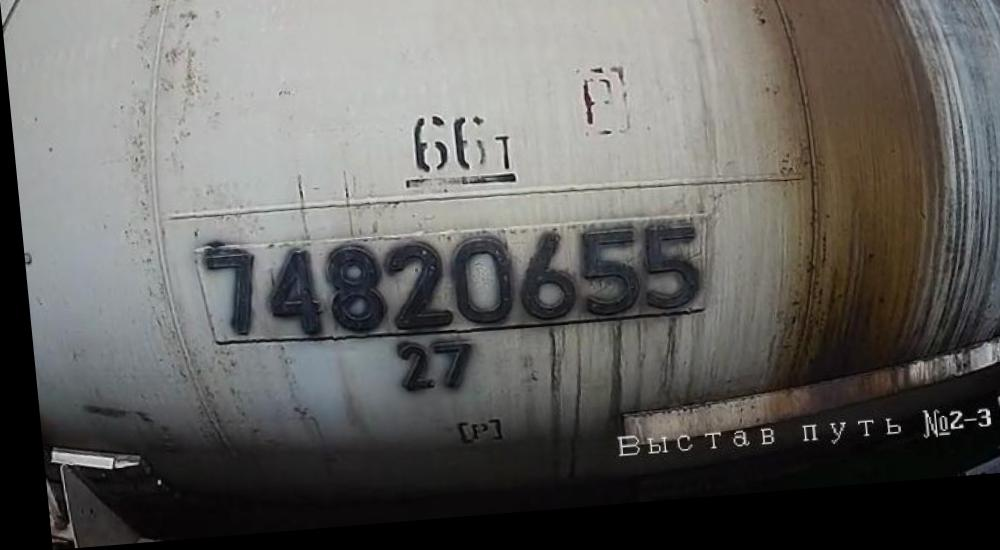Wagon-number: (193, 217, 697, 356)
